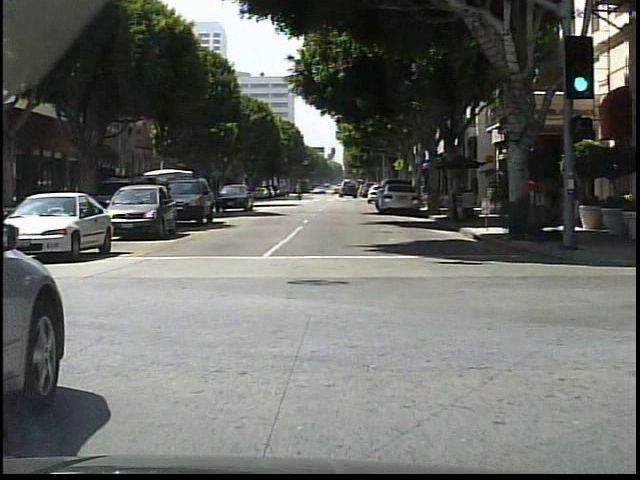person: (562, 159, 582, 243), (526, 171, 540, 228), (450, 172, 465, 220), (293, 182, 302, 200)
